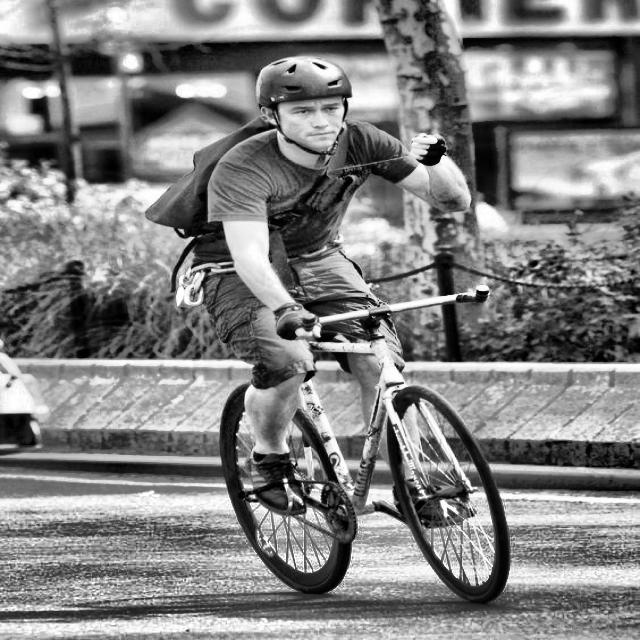Helmet: (257, 55, 354, 154)
